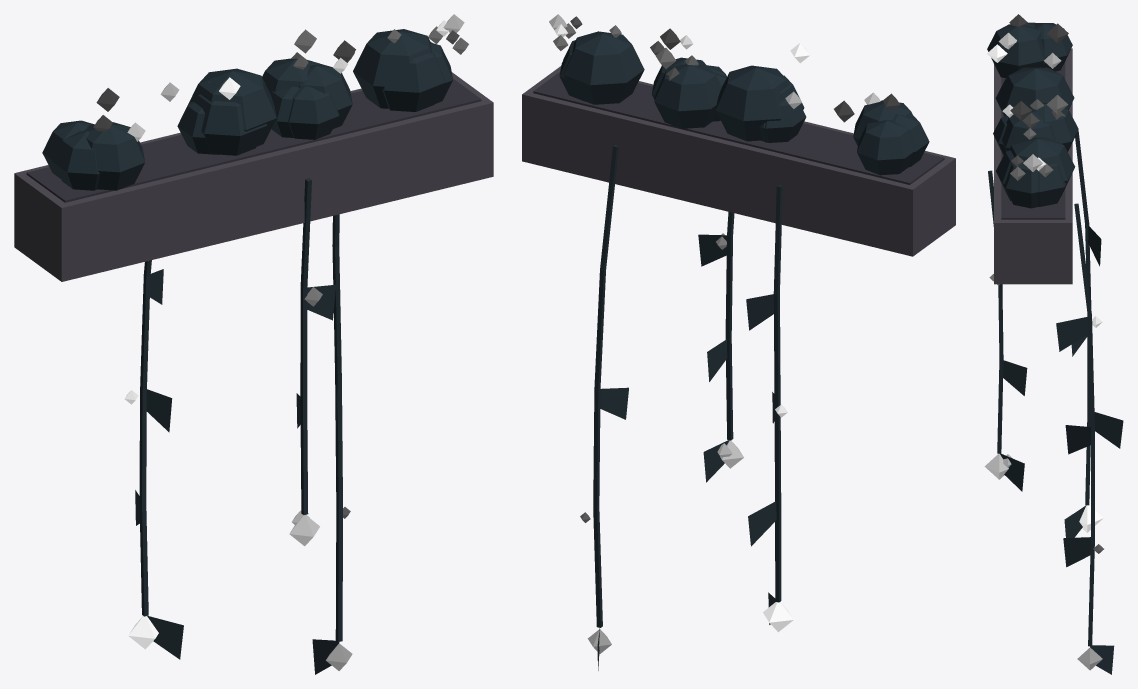
Rendered from planter_trough_b.glb.
The picture shows the model from 3 angles, left to right: view 1: azimuth 30°, elevation 25°; view 2: azimuth 150°, elevation 25°; view 3: azimuth 270°, elevation 25°; orthographic projection. The views are drawn at different scales.
Parts seen in each view (by area): view 1: planter_trough_b; view 2: planter_trough_b; view 3: planter_trough_b.
Part boxes in pixels (x1,y1,x2,y2): planter_trough_b: (14, 14, 493, 674); planter_trough_b: (522, 14, 955, 670); planter_trough_b: (984, 14, 1123, 674).
Bounding box in the file's own units: 2.2 × 3.34 × 0.7401.
Materials: 4 (1 with a texture image).
